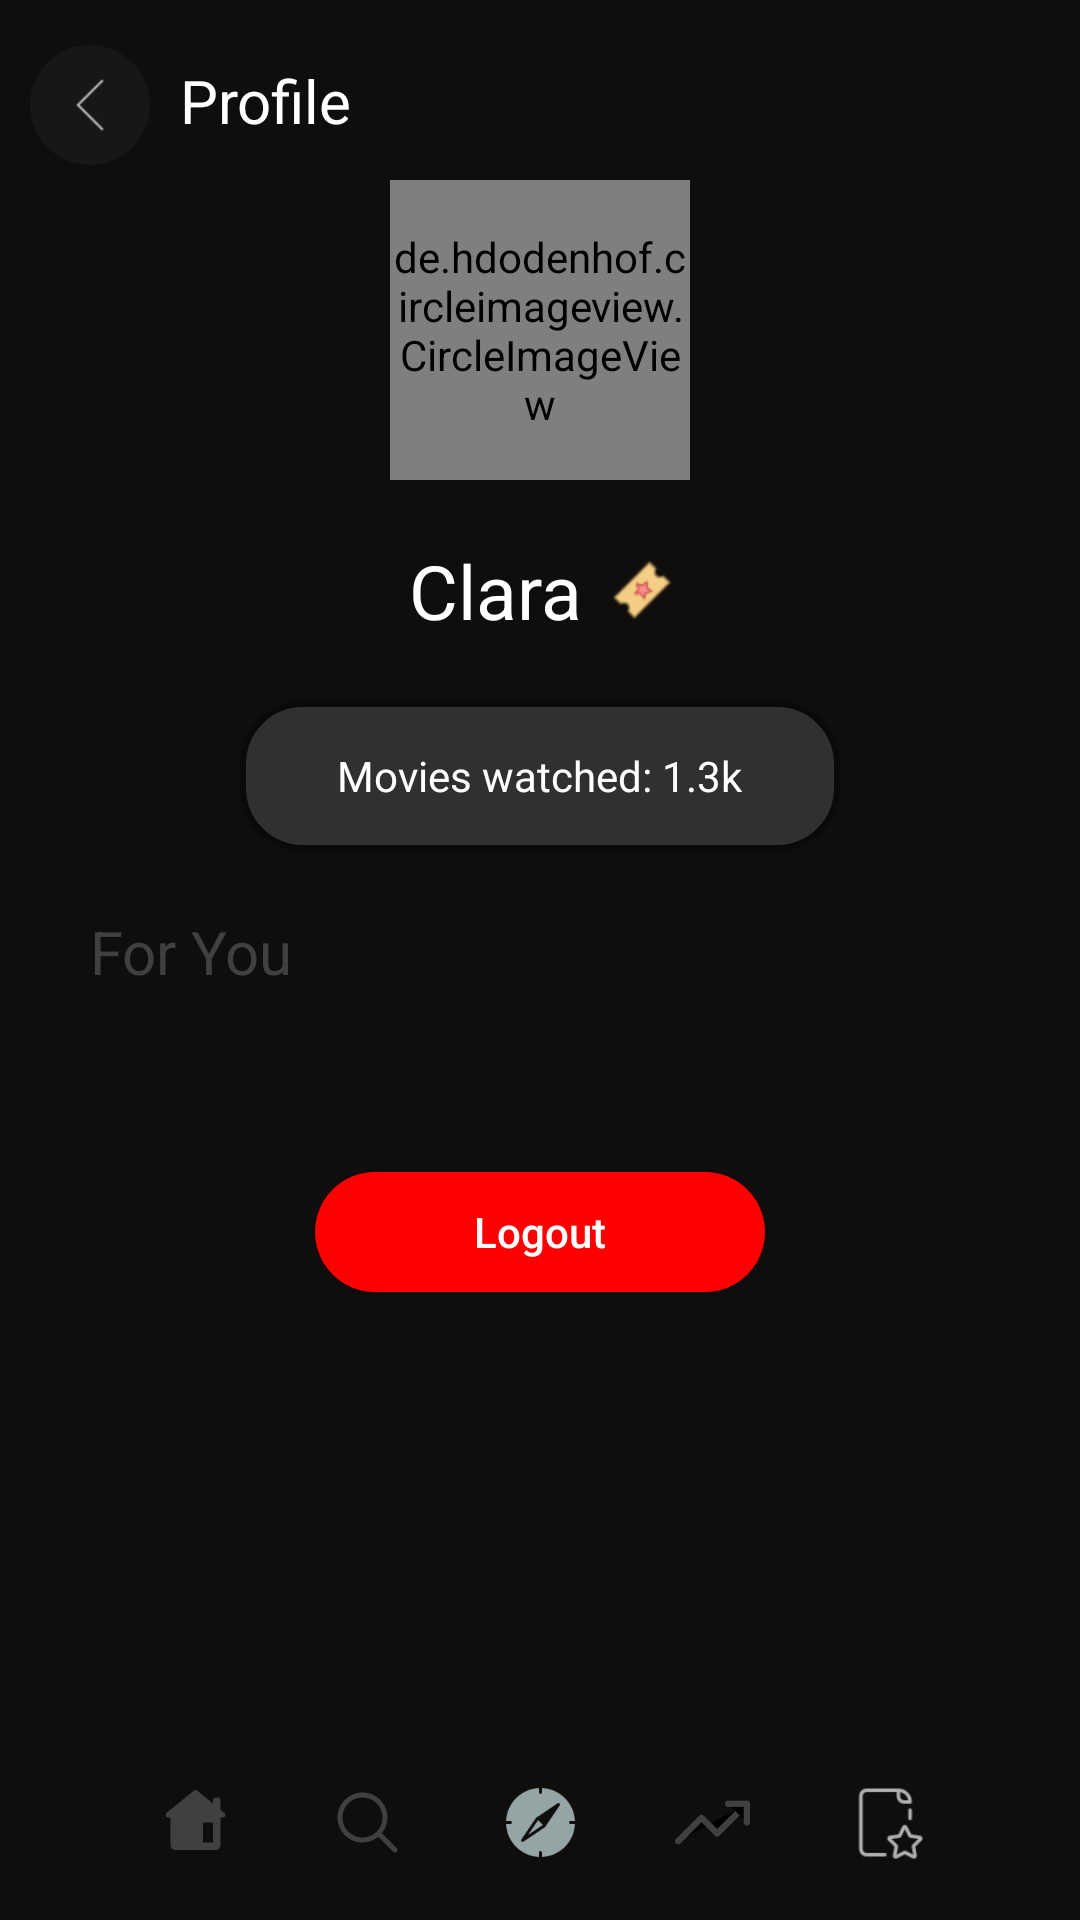

Locate icon controls on the screen. Image size 1080 x 1920, boxes as (x1, y1, x2, y2).
explore: (506, 1788, 575, 1857)
fav: (858, 1788, 923, 1859)
go back: (30, 45, 150, 165)
home: (166, 1790, 225, 1850)
movie ticket: (613, 561, 671, 619)
search: (337, 1792, 397, 1852)
trending: (675, 1801, 750, 1844)
